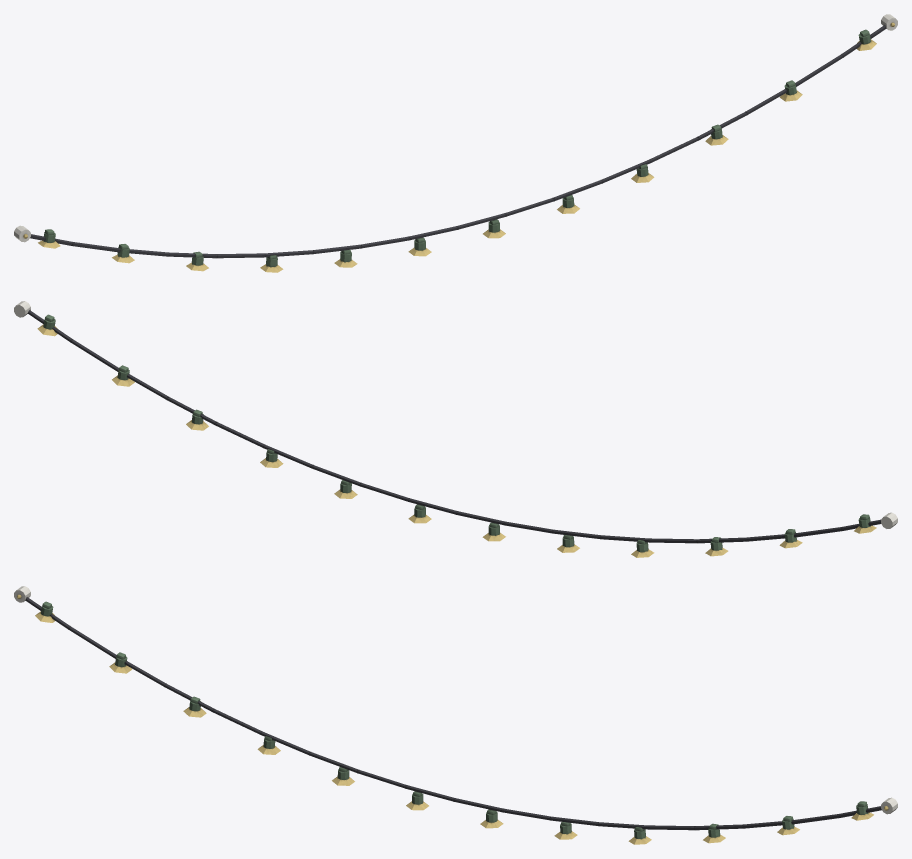
Rendered from soviet_garland_wire.glb.
3 renders of one model, top to bottom at view 1: azimuth 30°, elevation 25°; view 2: azimuth 150°, elevation 25°; view 3: azimuth 330°, elevation 25°, orthographic.
Visible parts, largest first — view 1: soviet_garland_wire; view 2: soviet_garland_wire; view 3: soviet_garland_wire.
Boxes of the visible parts, x1=… form: soviet_garland_wire: x1=14, y1=14, x2=897, y2=272; soviet_garland_wire: x1=14, y1=301, x2=897, y2=557; soviet_garland_wire: x1=14, y1=586, x2=897, y2=844.
Bounding box in the file's own units: 2.05 × 0.2675 × 0.048.
Materials: 1 (1 with a texture image).
